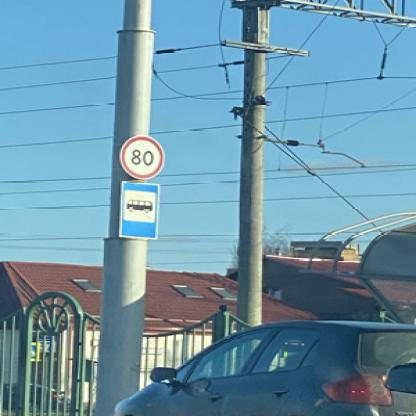speedlimit: (118, 134, 162, 177)
